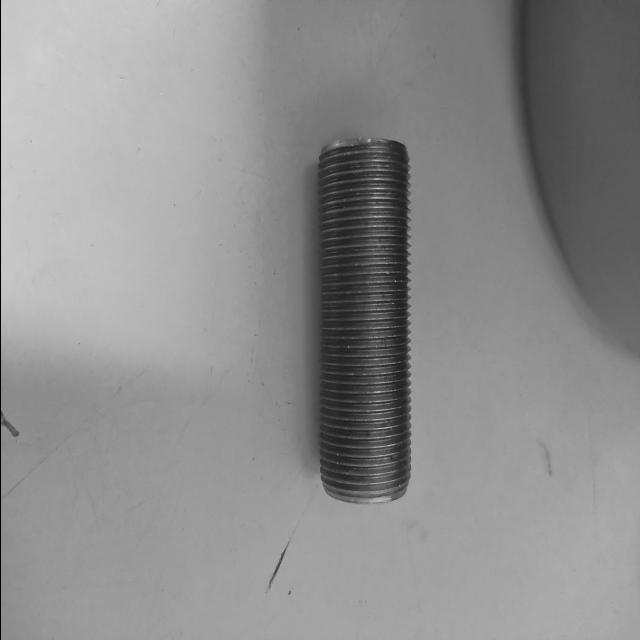Normal: (316, 138, 412, 504)
